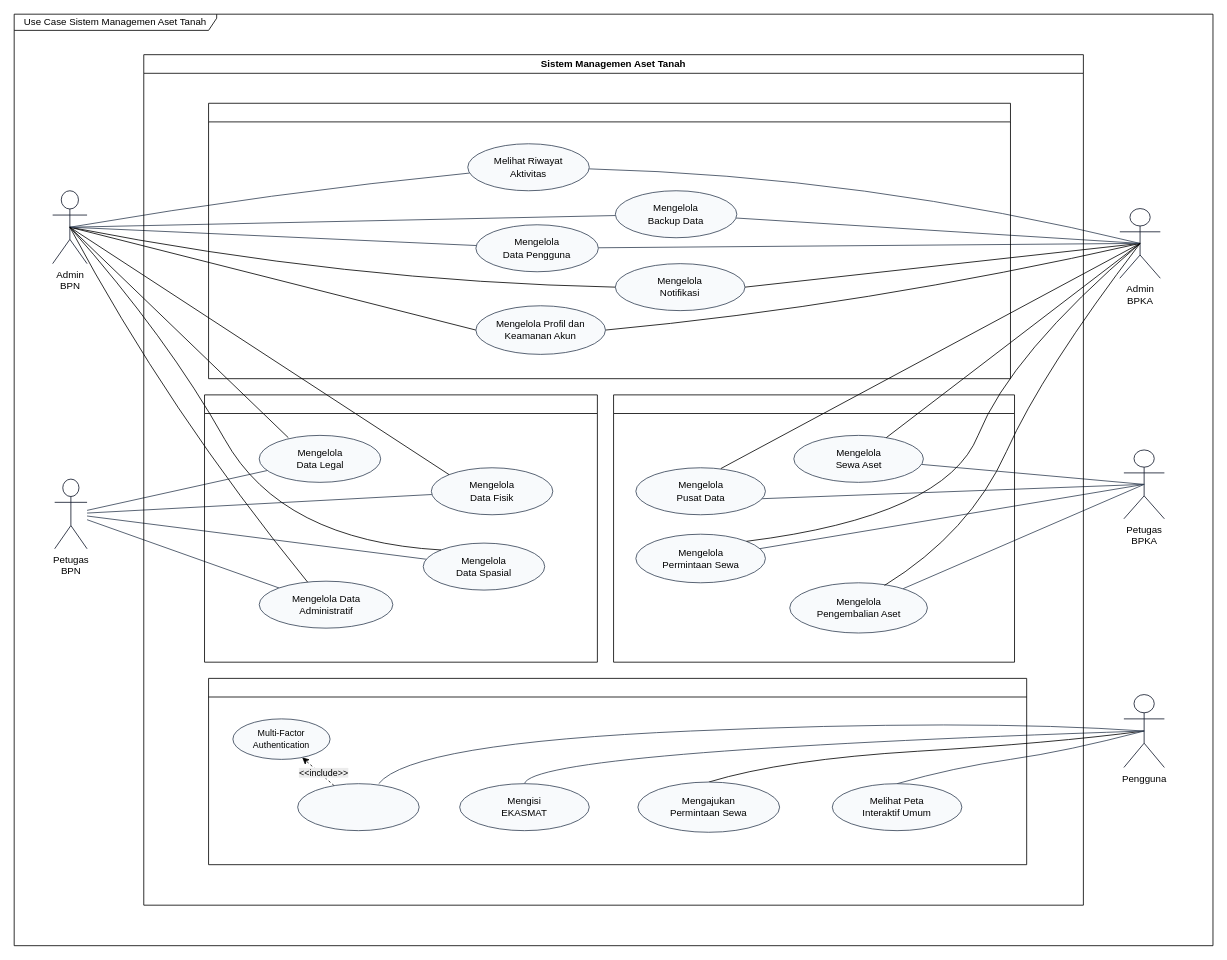
The diagram is 1227 pixels wide and 960 high, and some of its shapes have lost their labels. Here are the shapes that lost their labels. From the top down, the box of each, then its label:
(208, 102, 1010, 379): Administrasi Sistem
(204, 394, 597, 662): Modul BPN
(613, 394, 1015, 662): Modul BPKA
(208, 678, 1027, 865): Akses Umum
(297, 783, 419, 831): Login ke Sistem
